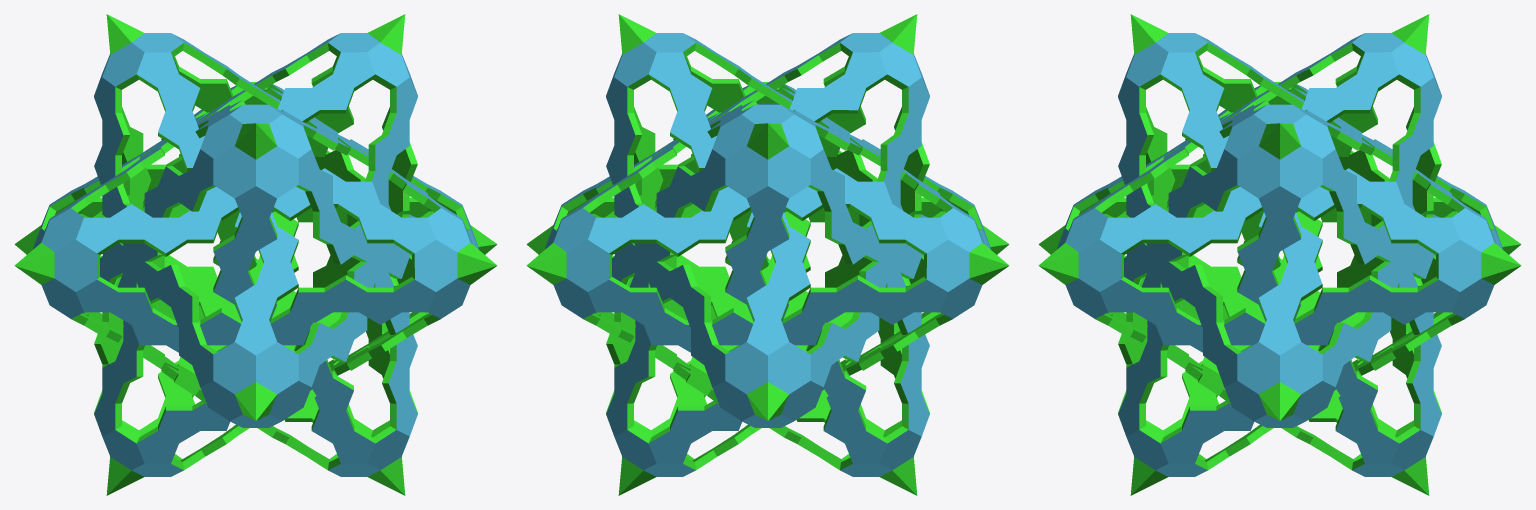
Rendered from StarDodecahedronPolyknot5.glb.
3 renders of one model, left to right at view 1: azimuth 30°, elevation 25°; view 2: azimuth 150°, elevation 25°; view 3: azimuth 270°, elevation 25°, orthographic.
Parts seen in each view (by area): view 1: 3D_ESCHER_D_POLYKNOT_31Augmented_Penta_Prism; view 2: 3D_ESCHER_D_POLYKNOT_31Augmented_Penta_Prism; view 3: 3D_ESCHER_D_POLYKNOT_31Augmented_Penta_Prism.
Part boxes in pixels (x1,y1,x2,y2): 3D_ESCHER_D_POLYKNOT_31Augmented_Penta_Prism: (14,14,497,495); 3D_ESCHER_D_POLYKNOT_31Augmented_Penta_Prism: (526,14,1009,495); 3D_ESCHER_D_POLYKNOT_31Augmented_Penta_Prism: (1038,14,1521,495).
Size of the model in its own units: 98.22 by 79.47 by 85.07.
